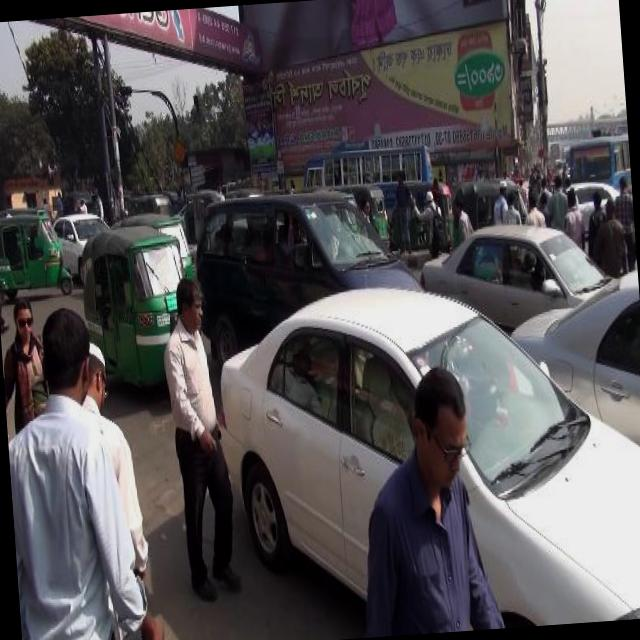bus: (298, 139, 438, 218), (564, 131, 630, 203)
car: (209, 271, 640, 640), (419, 212, 621, 338), (510, 273, 640, 453), (54, 206, 114, 281), (563, 174, 624, 238)
motorcycle: (80, 230, 194, 406), (113, 212, 198, 328), (0, 199, 69, 309), (448, 174, 532, 253), (384, 178, 456, 260), (354, 180, 393, 248), (186, 186, 226, 250), (128, 193, 174, 221), (61, 184, 97, 217), (223, 178, 269, 200)
truck: (192, 183, 428, 394)
